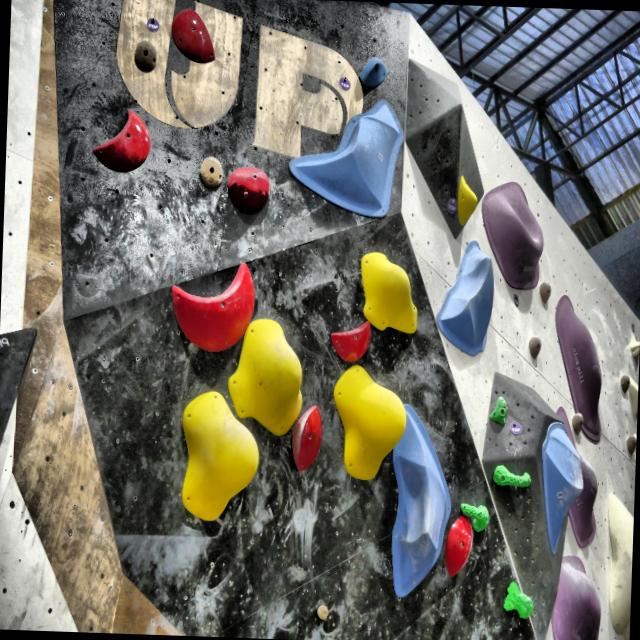Hold: (281, 89, 407, 214), (390, 392, 455, 602), (175, 390, 270, 529), (544, 280, 612, 430), (228, 312, 306, 436), (332, 366, 408, 484), (169, 255, 259, 348), (484, 177, 549, 294), (551, 408, 603, 551), (534, 419, 582, 556), (354, 250, 430, 334), (445, 238, 492, 358), (599, 491, 634, 640), (547, 556, 603, 640), (88, 100, 155, 170), (163, 8, 221, 68), (290, 399, 330, 470), (226, 158, 272, 212), (446, 518, 479, 581), (329, 324, 377, 364), (501, 574, 533, 622), (454, 168, 480, 226), (492, 459, 534, 486), (459, 500, 493, 530), (359, 52, 384, 88), (484, 398, 510, 427)
